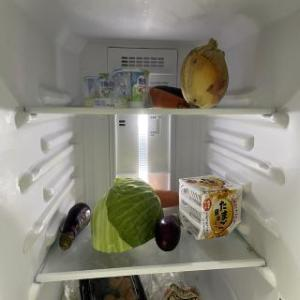cabbage: (94, 178, 163, 254)
carrot: (149, 88, 189, 108), (152, 188, 182, 209)
eggplant: (60, 199, 90, 249), (156, 212, 180, 252), (155, 88, 187, 98)
onion: (180, 38, 228, 110)
